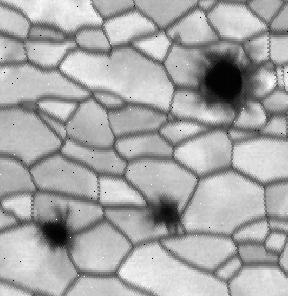good_void: (185, 43, 266, 117), (146, 183, 192, 239), (33, 206, 79, 256)
